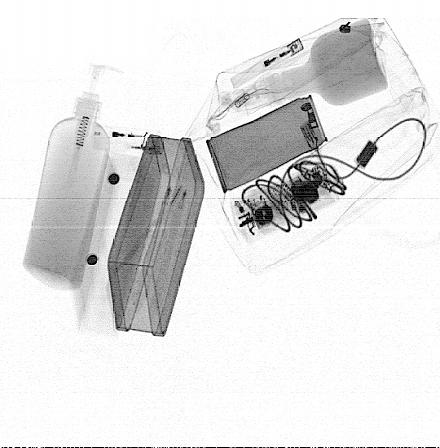Lighter: (230, 38, 304, 89)
